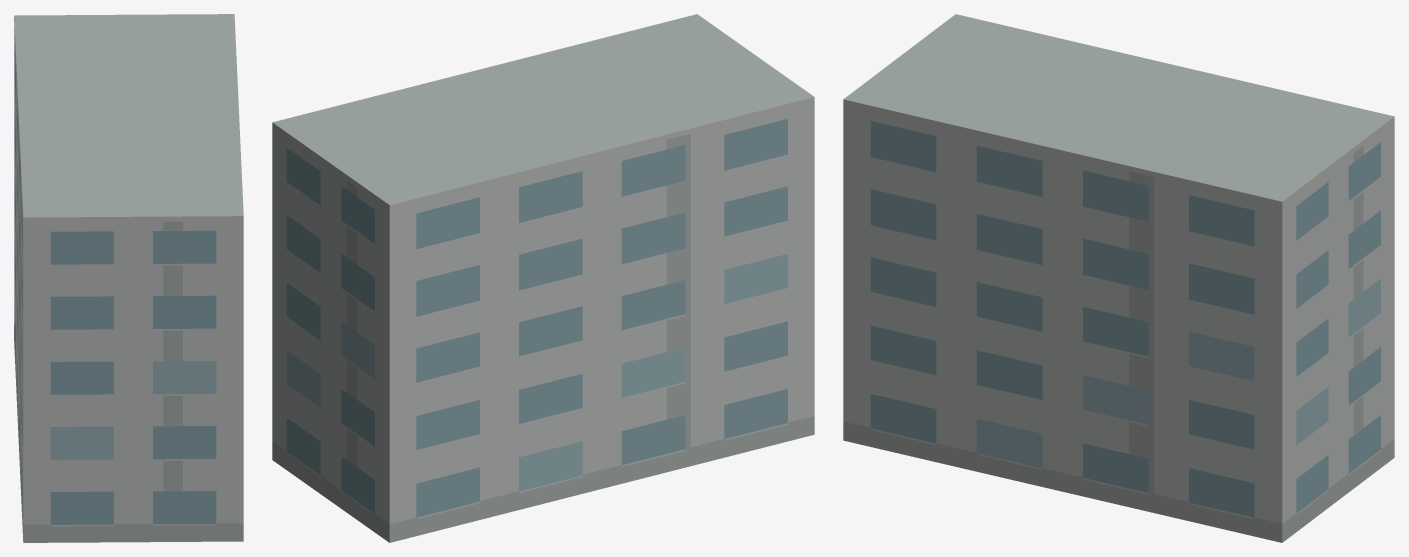
File: survey-upis-32596677.glb
The picture shows the model from 3 angles, left to right: view 1: azimuth 30°, elevation 25°; view 2: azimuth 150°, elevation 25°; view 3: azimuth 270°, elevation 25°; orthographic projection. The views are drawn at different scales.
Visible parts, largest first — view 1: survey-upis-32596677.tmp; view 2: survey-upis-32596677.tmp; view 3: survey-upis-32596677.tmp.
Part boxes in pixels (x1,y1,x2,y2): survey-upis-32596677.tmp: (14,14,243,542); survey-upis-32596677.tmp: (272,14,814,542); survey-upis-32596677.tmp: (843,14,1394,542).
Size of the model in its own units: 18.65 by 15.8 by 23.15.
